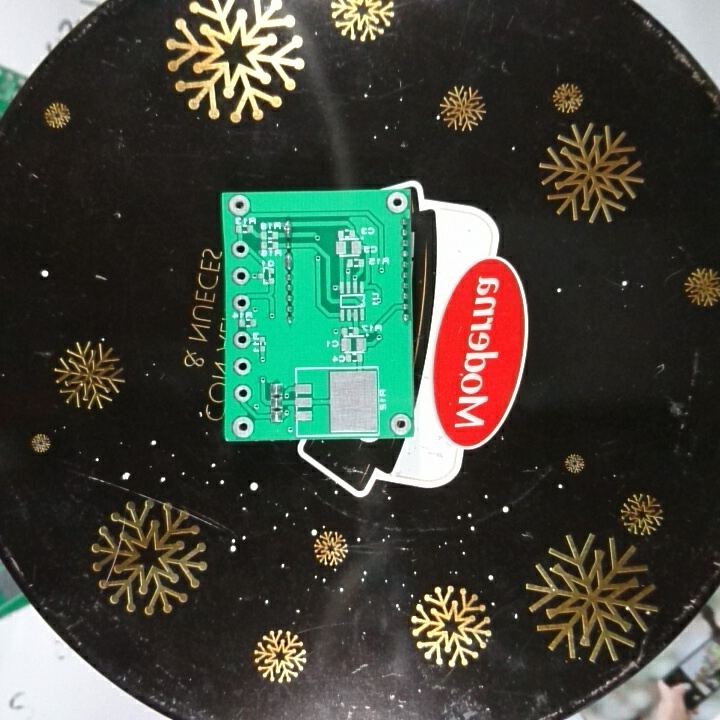F: (225, 194, 254, 218), (388, 412, 414, 436), (230, 415, 257, 438), (385, 189, 409, 214), (229, 238, 251, 260), (229, 329, 251, 350), (231, 357, 254, 377), (232, 383, 255, 403), (231, 293, 252, 313), (231, 266, 251, 286)
P: (279, 218, 295, 240), (283, 250, 297, 272)
